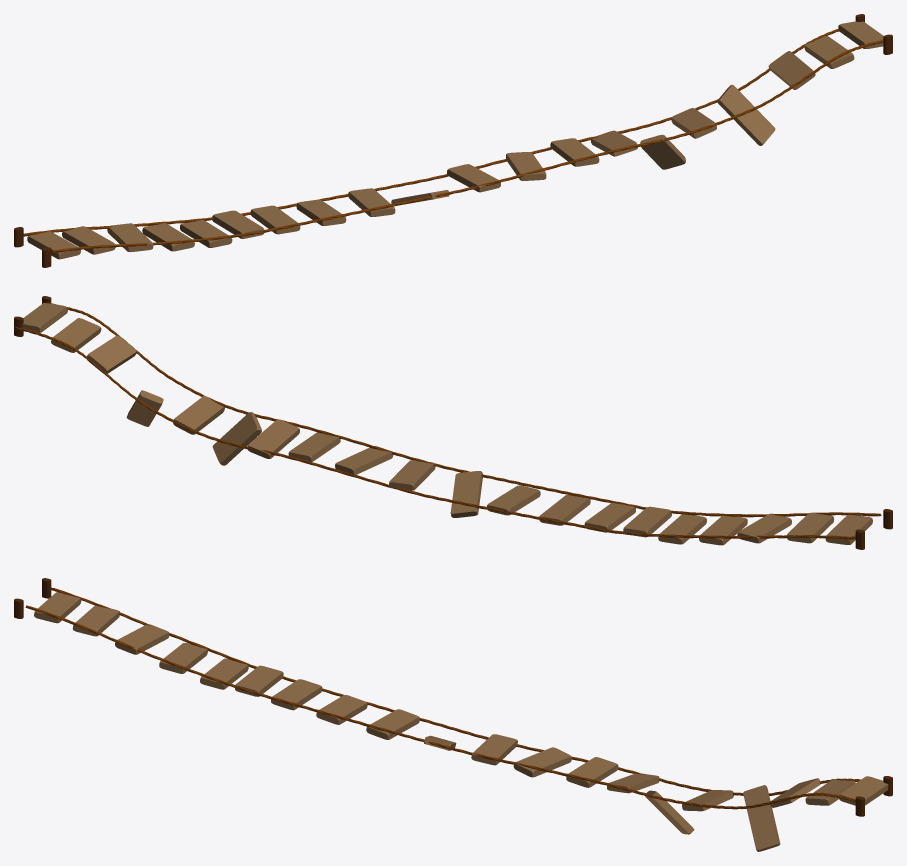
File: bridge.glb
3 renders of one model, top to bottom at view 1: azimuth 30°, elevation 25°; view 2: azimuth 150°, elevation 25°; view 3: azimuth 330°, elevation 25°, orthographic.
Parts seen in each view (by area): view 1: Circle.001, Circle.002, Cube.027, Cube.026, Cube.029, Cube.042, Cube.032, Cube.045, Cube.030, Cube.037, Cube.034, Cube.035 (+9 smaller); view 2: Circle.002, Circle.001, Cube.029, Cube.041, Cube.044, Cube.026, Cube.028, Cube.042, Cube.031, Cube.033, Cube.030, Cube.038 (+10 smaller); view 3: Circle.001, Circle.002, Cube.027, Cube.031, Cube.038, Cube.033, Cube.034, Cube.030, Cube.045, Cube.040, Cube.032, Cube.039 (+9 smaller).
Part boxes in pixels (bbox=[...]): Circle.001: bbox=[52, 39, 883, 253]; Circle.002: bbox=[23, 29, 838, 236]; Cube.027: bbox=[717, 84, 775, 145]; Cube.026: bbox=[768, 51, 815, 89]; Cube.029: bbox=[640, 134, 685, 169]; Cube.042: bbox=[804, 35, 854, 68]; Cube.032: bbox=[447, 164, 500, 192]; Cube.045: bbox=[212, 210, 264, 238]; Cube.030: bbox=[550, 138, 599, 166]; Cube.037: bbox=[62, 226, 115, 254]; Cube.034: bbox=[250, 205, 300, 234]; Cube.035: bbox=[142, 223, 194, 251]; Circle.002: bbox=[14, 326, 855, 539]; Circle.001: bbox=[43, 302, 881, 517]; Cube.029: bbox=[212, 412, 261, 465]; Cube.041: bbox=[450, 471, 482, 517]; Cube.044: bbox=[247, 419, 299, 458]; Cube.026: bbox=[86, 335, 136, 373]; Cube.028: bbox=[173, 396, 224, 434]; Cube.042: bbox=[51, 318, 101, 352]; Cube.031: bbox=[335, 446, 393, 474]; Cube.033: bbox=[487, 485, 540, 515]; Cube.030: bbox=[288, 432, 340, 461]; Cube.038: bbox=[737, 513, 791, 543]; Circle.001: bbox=[25, 605, 855, 809]; Circle.002: bbox=[50, 587, 860, 795]; Cube.027: bbox=[743, 785, 780, 851]; Cube.031: bbox=[513, 747, 571, 777]; Cube.038: bbox=[115, 624, 169, 654]; Cube.033: bbox=[366, 709, 419, 739]; Cube.034: bbox=[271, 679, 322, 710]; Cube.030: bbox=[566, 757, 618, 787]; Cube.045: bbox=[235, 665, 283, 696]; Cube.040: bbox=[316, 695, 367, 724]; Cube.032: bbox=[471, 734, 517, 765]; Cube.039: bbox=[200, 658, 248, 689].
Size of the model in its own units: 63.23 by 7.22 by 5.23.
